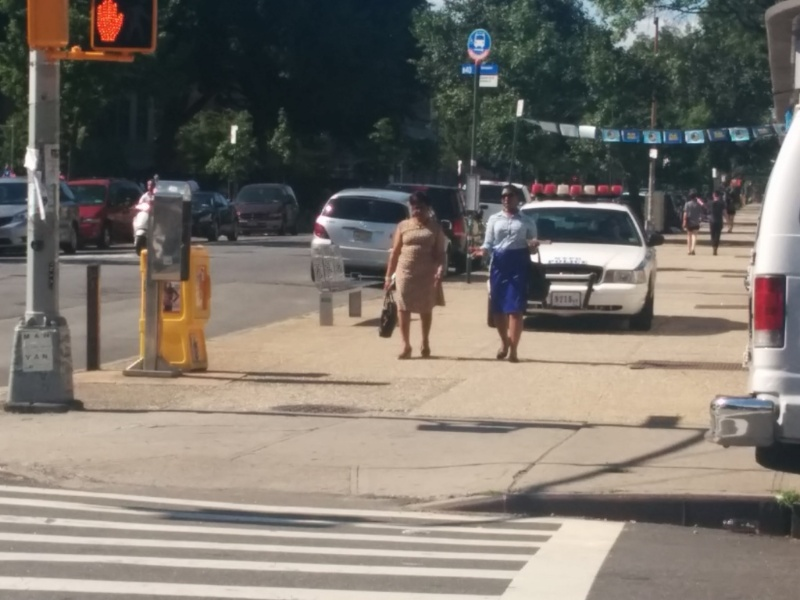bus_stop: (466, 27, 490, 54)
zebra_cross: (2, 476, 624, 600)
